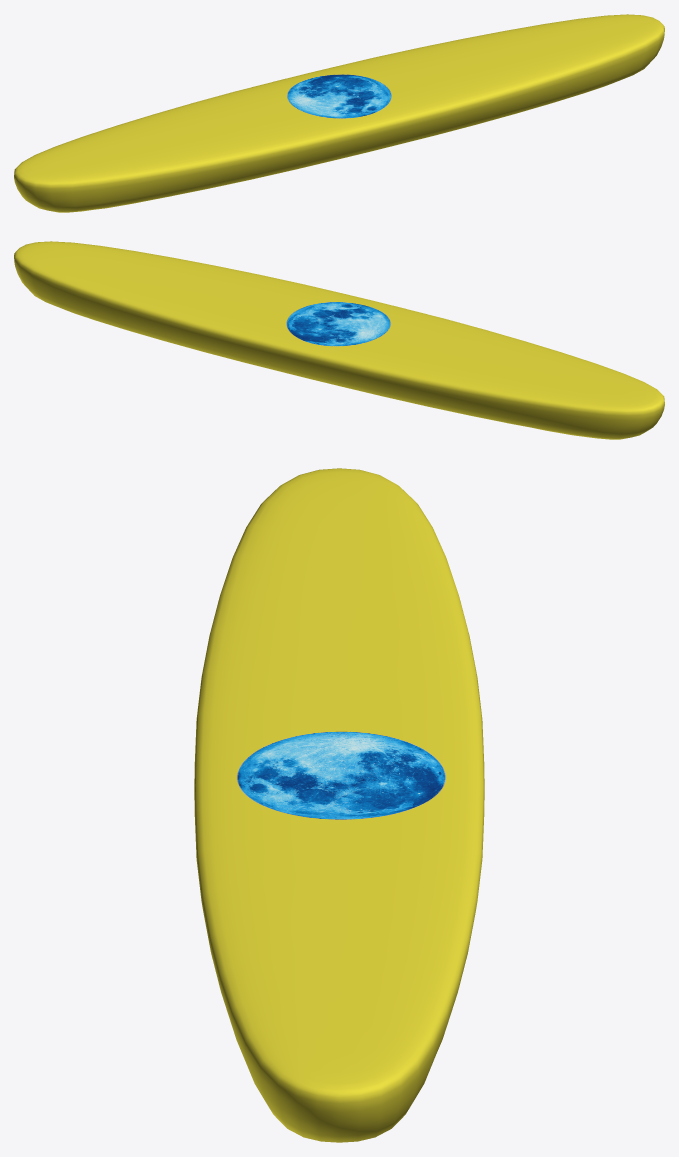
Rendered from yut-blue-moon.glb.
The picture shows the model from 3 angles, top to bottom: view 1: azimuth 30°, elevation 25°; view 2: azimuth 150°, elevation 25°; view 3: azimuth 270°, elevation 25°; orthographic projection. The views are drawn at different scales.
Parts seen in each view (by area): view 1: Cube.001; view 2: Cube.001; view 3: Cube.001.
Boxes of the visible parts, x1,y1,x2,y2 form: Cube.001: (14,14,664,212); Cube.001: (14,241,664,439); Cube.001: (194,468,484,1142).
Bounding box in the file's own units: 12.56 × 0.9102 × 2.46.
1 material, 1 textured.
